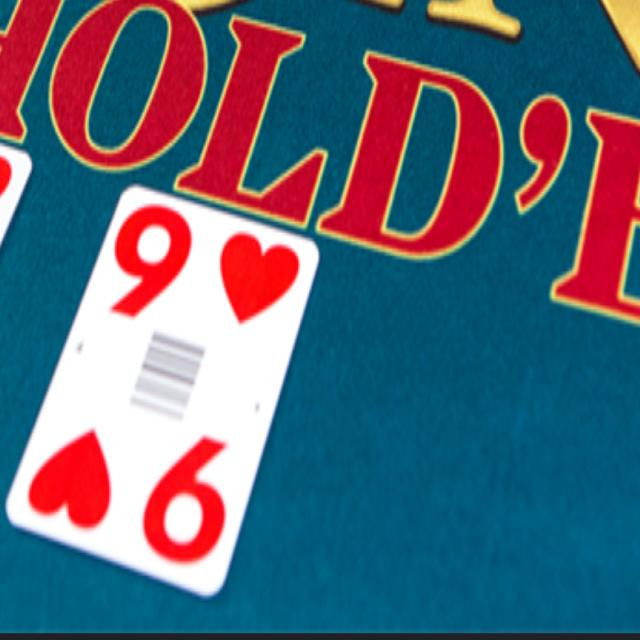Card-9: (7, 184, 318, 590)
